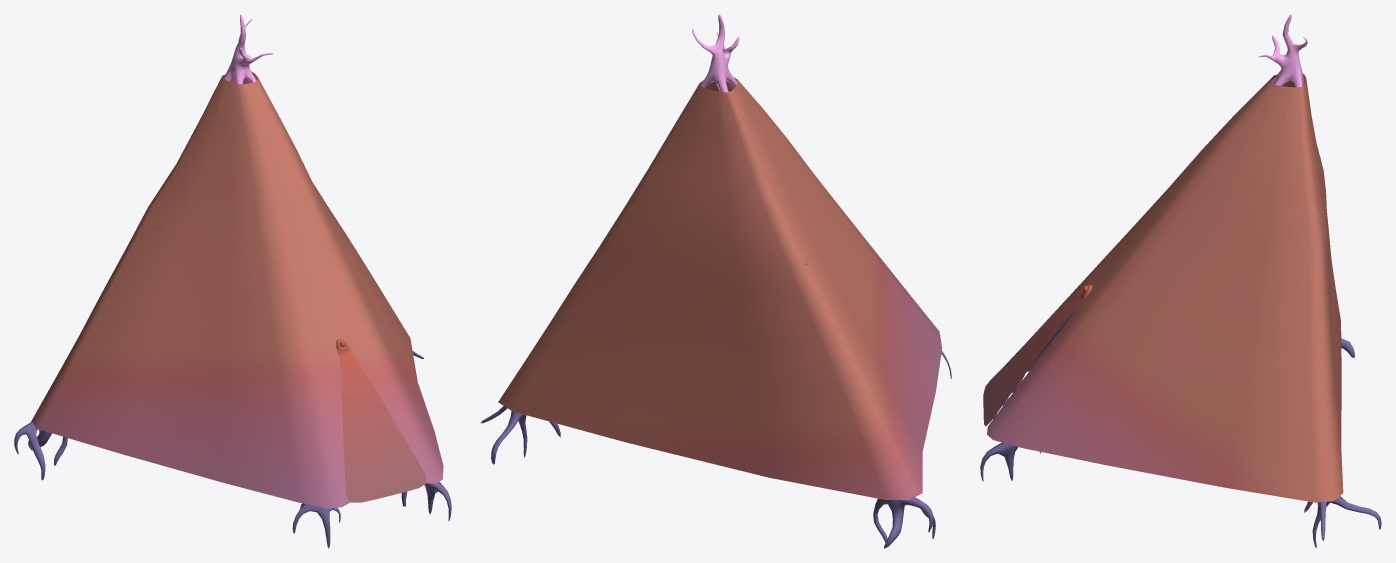
File: Tent_In.fbx
3 renders of one model, left to right at view 1: azimuth 30°, elevation 25°; view 2: azimuth 150°, elevation 25°; view 3: azimuth 270°, elevation 25°, orthographic. The views are drawn at different scales.
Visible parts, largest first — view 1: Tent_In, Tent_Door_In, Tent_Tree_In; view 2: Tent_In, Tent_Tree_In; view 3: Tent_In, Tent_Tree_In, Tent_Door_In.
Part boxes in pixels (bbox=[...]): Tent_In: bbox=[31, 71, 443, 508]; Tent_Door_In: bbox=[336, 339, 426, 502]; Tent_Tree_In: bbox=[14, 14, 451, 548]; Tent_In: bbox=[498, 77, 942, 499]; Tent_Tree_In: bbox=[480, 14, 951, 548]; Tent_In: bbox=[985, 74, 1343, 502]; Tent_Tree_In: bbox=[980, 14, 1381, 548]; Tent_Door_In: bbox=[983, 284, 1092, 425].
Bounding box in the file's own units: 1216 × 1224 × 986.
